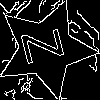Z: (21, 24, 74, 65)
